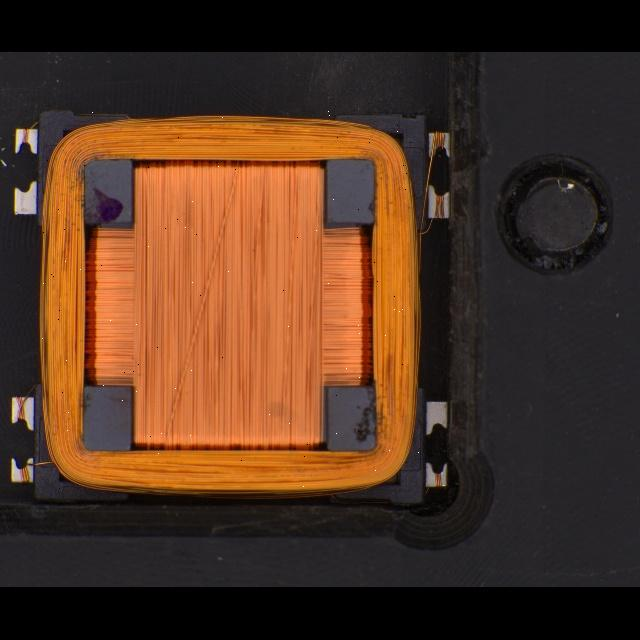Winding_Z: (38, 111, 423, 499)
